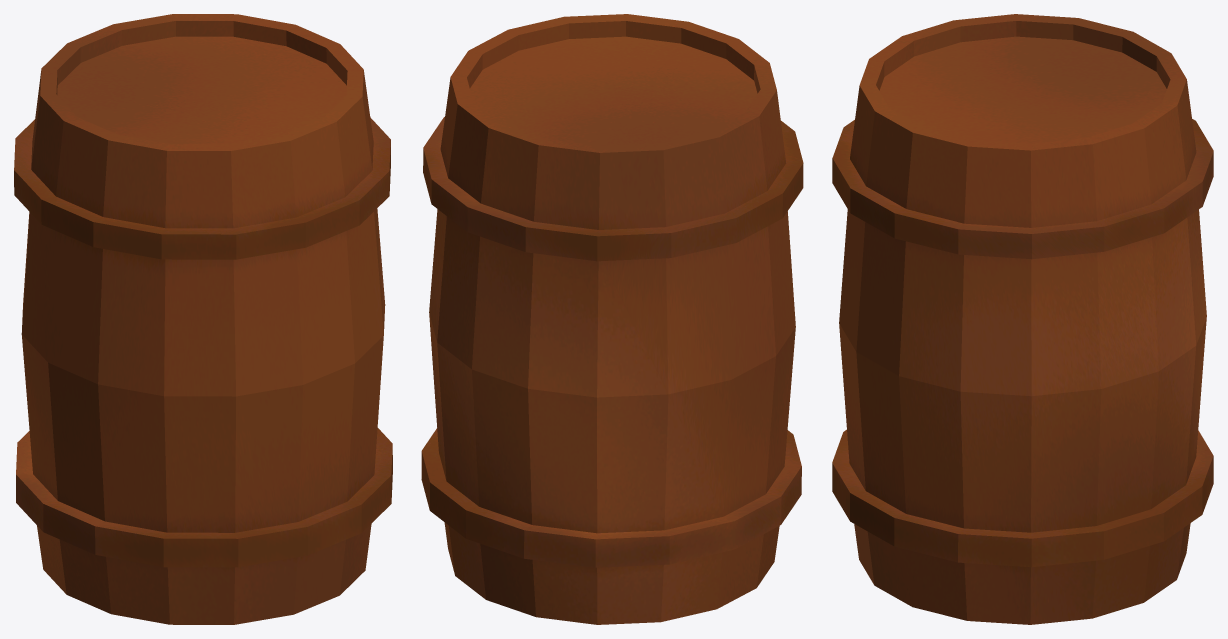
File: barrel.fbx
3 renders of one model, left to right at view 1: azimuth 30°, elevation 25°; view 2: azimuth 150°, elevation 25°; view 3: azimuth 270°, elevation 25°, orthographic.
Parts seen in each view (by area): view 1: node_id4; view 2: node_id4; view 3: node_id4.
Boxes of the visible parts, left/top/right/bottom form: node_id4: left=14, top=14, right=392, bottom=624; node_id4: left=421, top=14, right=803, bottom=624; node_id4: left=832, top=14, right=1213, bottom=624.
Size of the model in its own units: 0.1319 by 0.1802 by 0.1312.
1 material, 1 textured.
